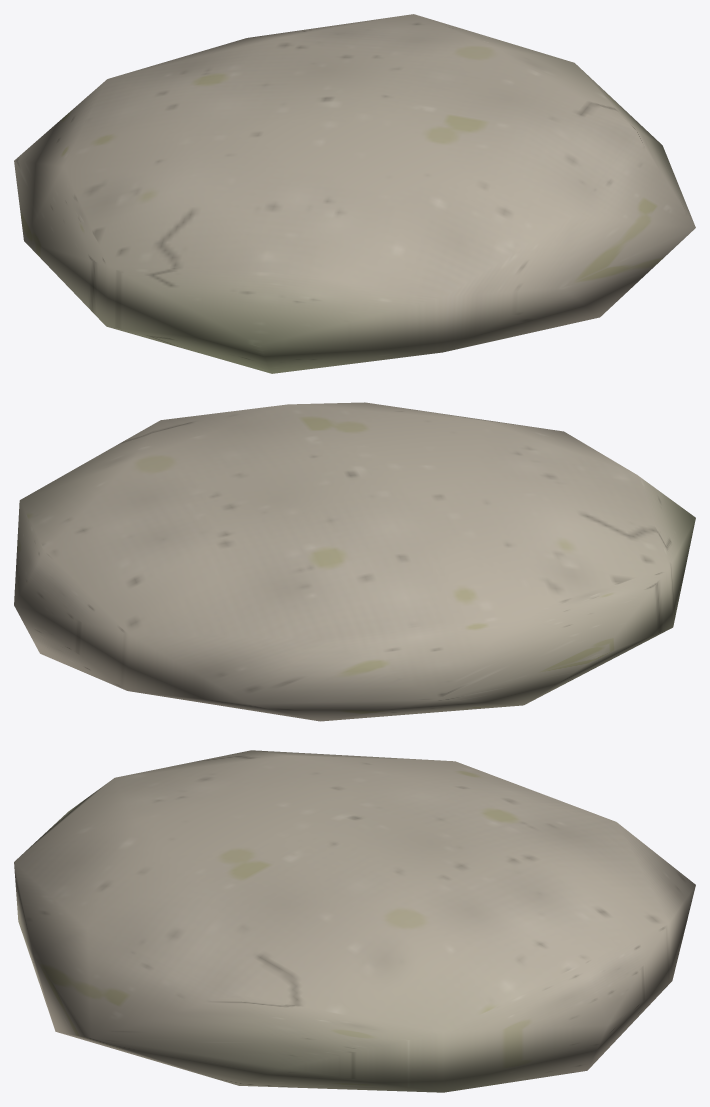
The model's file is region-prop-298.glb.
The picture shows the model from 3 angles, top to bottom: view 1: azimuth 30°, elevation 25°; view 2: azimuth 150°, elevation 25°; view 3: azimuth 270°, elevation 25°; orthographic projection. The views are drawn at different scales.
Visible parts, largest first — view 1: props_rock_0; view 2: props_rock_0; view 3: props_rock_0.
Boxes of the visible parts, x1,y1,x2,y2 form: props_rock_0: (14,14,695,373); props_rock_0: (14,402,695,721); props_rock_0: (14,750,695,1092).
Bounding box in the file's own units: 0.566 × 0.1747 × 0.5594.
1 material, 1 textured.
